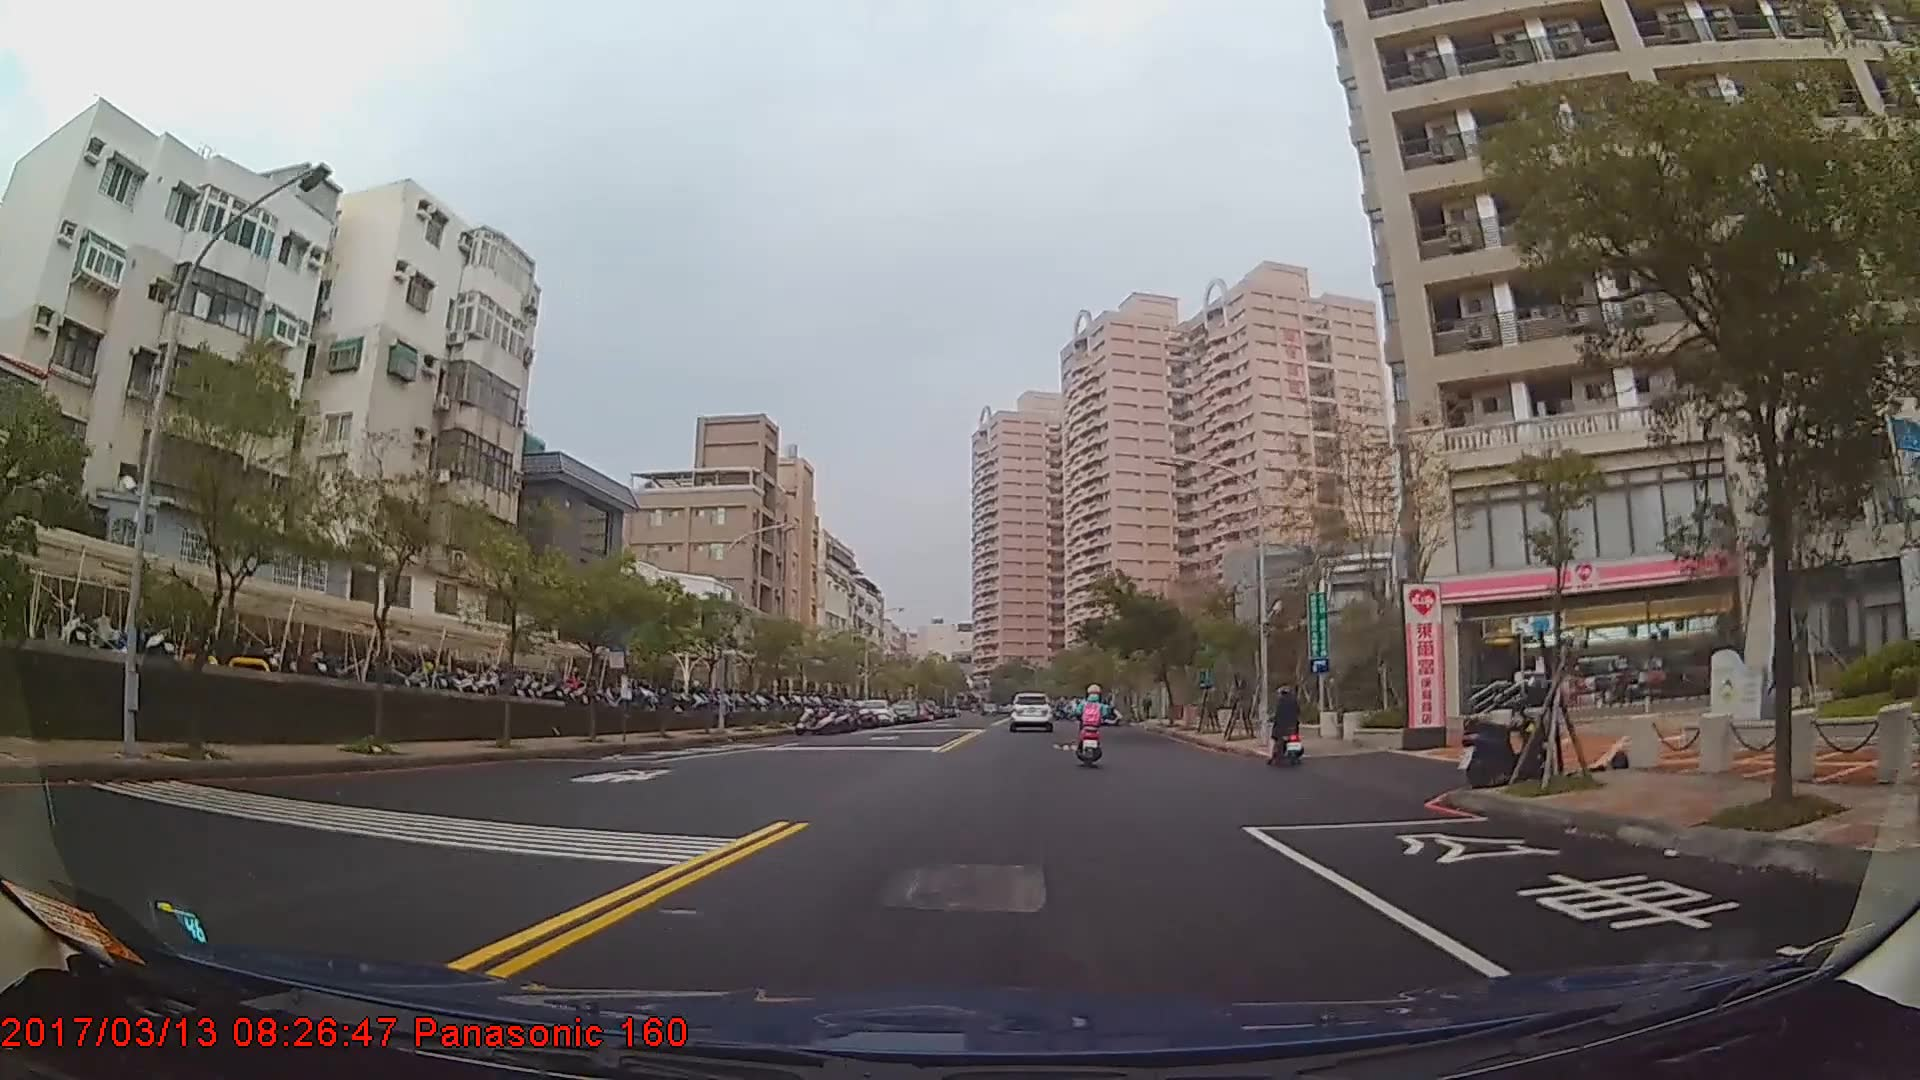rider: (1265, 687, 1308, 768), (1072, 685, 1111, 767)
vehicle: (1004, 690, 1055, 734), (855, 698, 891, 725)
